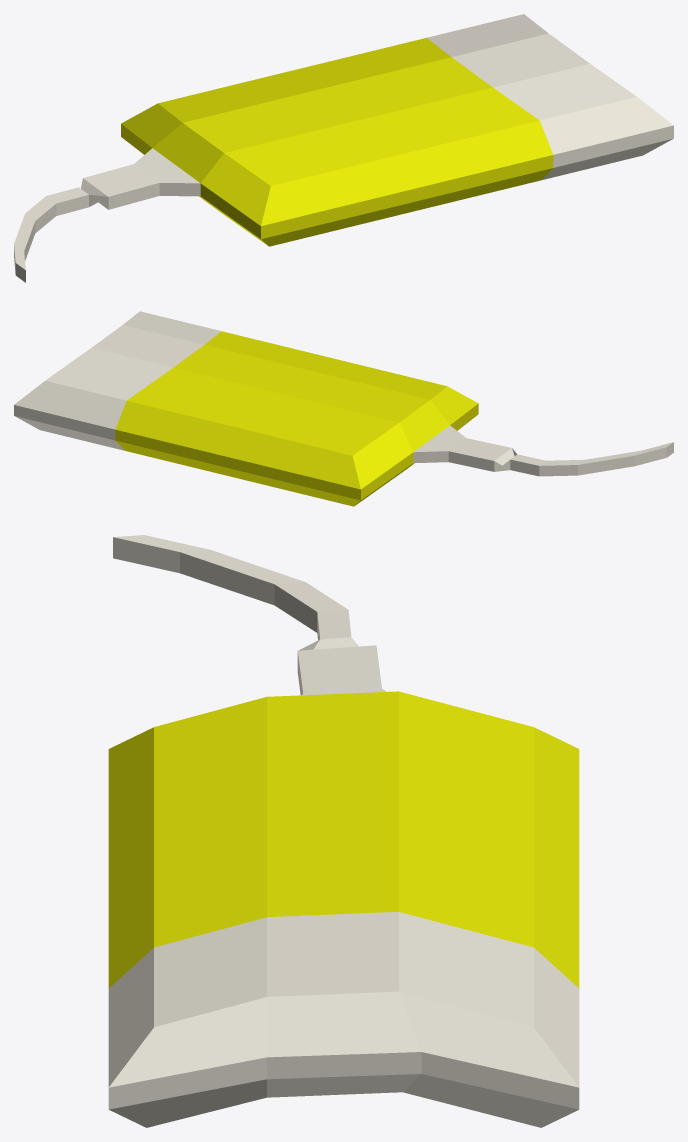
The model's file is plastic piss bag.fbx.
3 views of the same model, one above another, from view 1: azimuth 30°, elevation 25°; view 2: azimuth 150°, elevation 25°; view 3: azimuth 270°, elevation 25° (orthographic). The views are drawn at different scales.
Visible parts, largest first — view 1: Cube; view 2: Cube; view 3: Cube.
Part boxes in pixels (box(x1,y1,x2,y2)): Cube: box(14, 14, 673, 282); Cube: box(14, 311, 673, 506); Cube: box(108, 535, 579, 1127).
Size of the model in its own units: 314 by 33.22 by 118.
